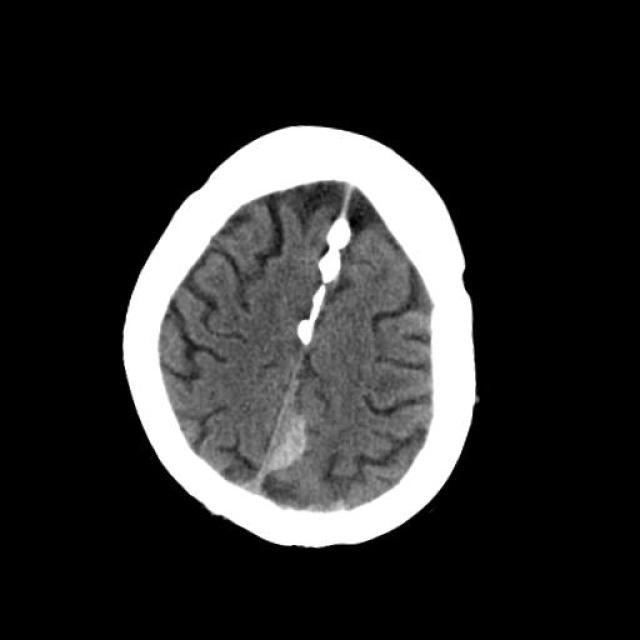Subdural: (235, 392, 321, 522)
